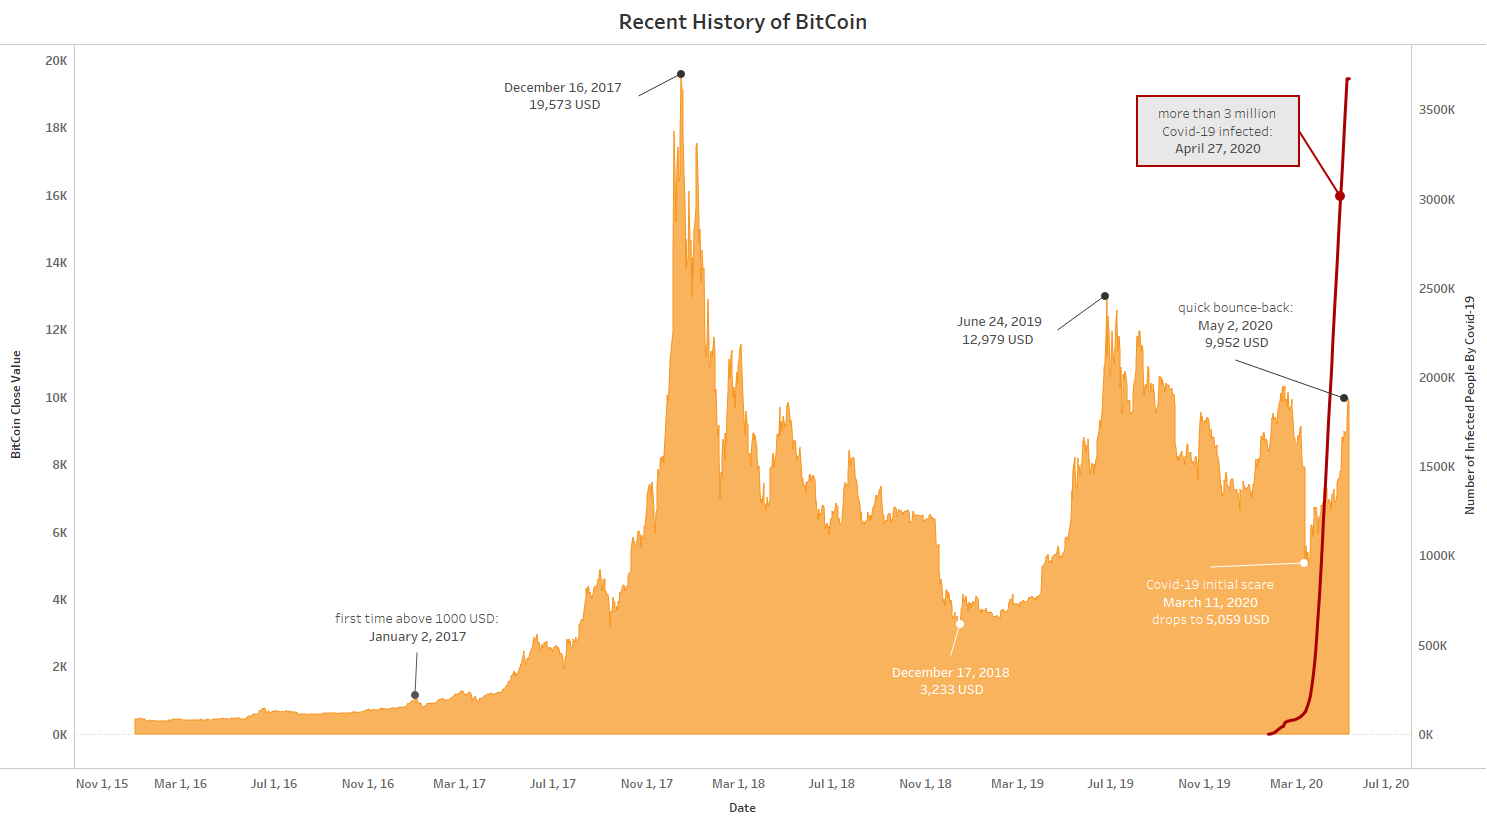

The dashboard page shown, as its layout file describes it:
{"tool":"tableau","page":{"name":"BitcoinHistory","canvas":[1366,768],"ordinal":0},"visuals":[{"type":"worksheet","title":"Recent History of BitCoin","mark":"Line","rows":["Close (BTC-USD.csv)","Daily New Infections (Global)"],"cols":["Date (BTC-USD.csv)"],"box":[2,0,1363,766]},{"type":"text","box":[1138,10,219,38]},{"type":"legend","title":"Recent History of BitCoin","param":"[federated.0rg4kuo0qrrmle1eso1do0pyr2xw].[:Measure Names]","box":[1020,67,188,50]}]}

Visuals, with their boxes in screenshot pixels (x1, y1, x2, y2), scaled from the page's 1366x768 canvas onto the 1487x824 screenshot:
"Recent History of BitCoin" worksheet (Line marks): (x1=2, y1=0, x2=1486, y2=822)
text: (x1=1239, y1=11, x2=1477, y2=52)
"Recent History of BitCoin" legend: (x1=1110, y1=72, x2=1315, y2=126)
